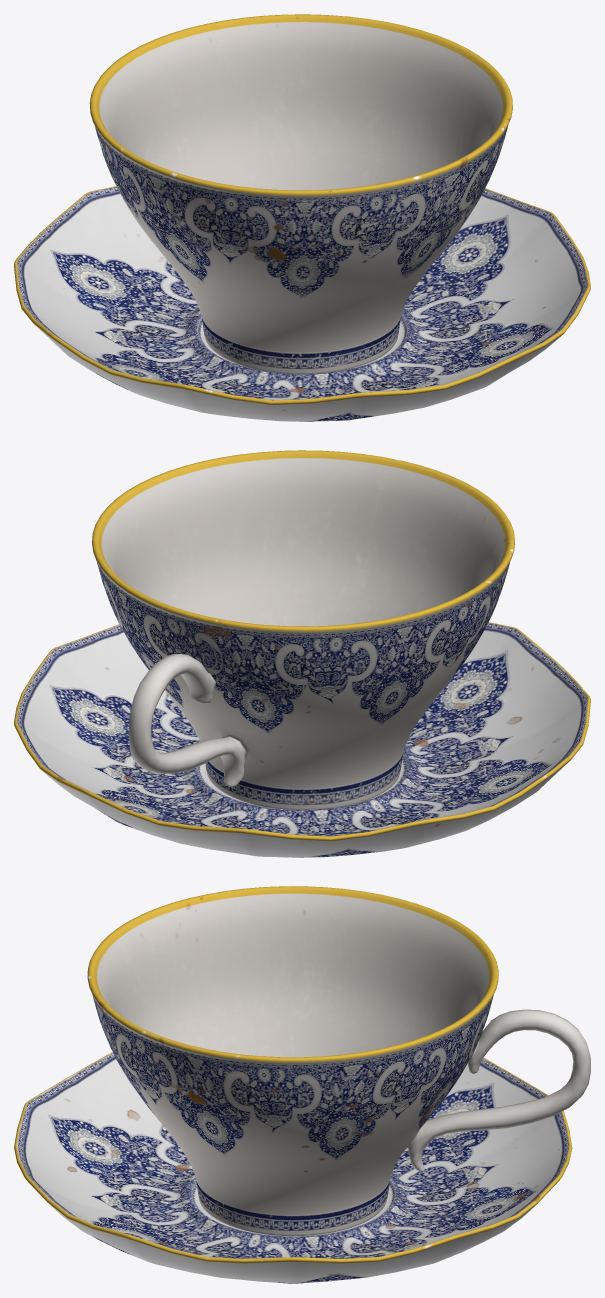
Rendered from old_tea_cup.glb.
3 renders of one model, top to bottom at view 1: azimuth 30°, elevation 25°; view 2: azimuth 150°, elevation 25°; view 3: azimuth 270°, elevation 25°, orthographic. The views are drawn at different scales.
Visible parts, largest first — view 1: pasted__Cup, pasted__plate; view 2: pasted__Cup, pasted__plate; view 3: pasted__Cup, pasted__plate.
Part boxes in pixels (bbox=[...]): pasted__Cup: bbox=[89, 14, 512, 373]; pasted__plate: bbox=[14, 186, 590, 421]; pasted__Cup: bbox=[92, 450, 514, 809]; pasted__plate: bbox=[14, 622, 590, 857]; pasted__Cup: bbox=[87, 886, 590, 1235]; pasted__plate: bbox=[14, 1052, 572, 1283].
Bounding box in the file's own units: 0.2096 × 0.1014 × 0.2146.
Materials: 2 (2 with a texture image).
